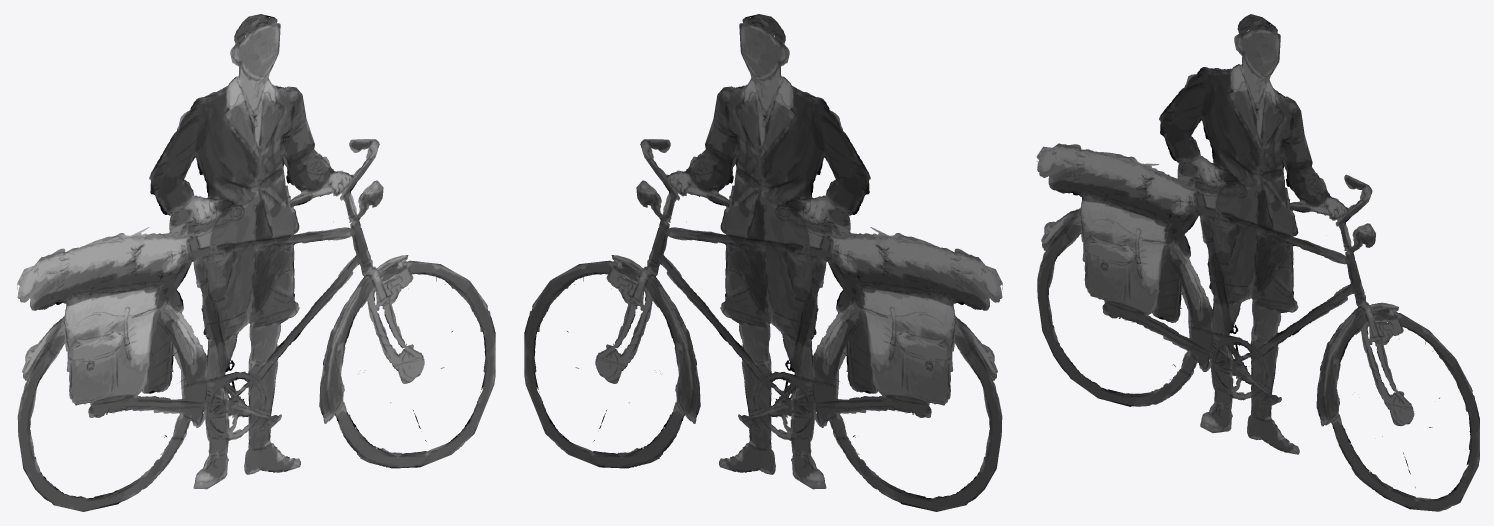
File: Depression_Bike.fbx
3 renders of one model, left to right at view 1: azimuth 30°, elevation 25°; view 2: azimuth 150°, elevation 25°; view 3: azimuth 330°, elevation 25°, orthographic. The views are drawn at different scales.
Visible parts, largest first — view 1: pCube1; view 2: pCube1; view 3: pCube1.
Part boxes in pixels (<box>): pCube1: <box>17,14,495,511</box>; pCube1: <box>524,14,1002,511</box>; pCube1: <box>1036,14,1479,511</box>.
Size of the model in its own units: 0.049 by 0.0479 by 0.
Materials: 1 (1 with a texture image).
